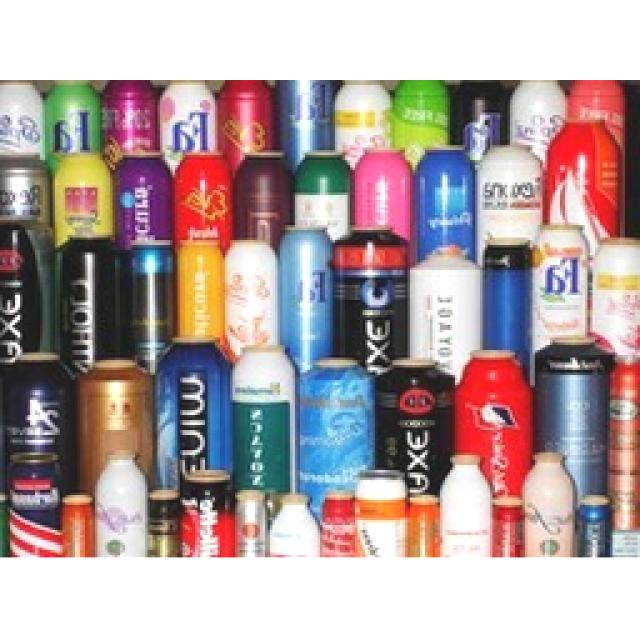B3: (300, 357, 374, 518), (158, 339, 232, 490), (458, 354, 532, 498), (378, 358, 454, 496), (4, 355, 76, 499), (334, 229, 408, 361), (81, 361, 153, 496), (234, 346, 297, 496), (410, 250, 481, 381), (546, 122, 619, 248), (532, 226, 589, 356), (281, 230, 334, 369), (482, 240, 533, 378), (478, 147, 543, 254), (225, 239, 279, 359), (477, 144, 543, 240), (127, 246, 175, 366), (355, 150, 411, 252), (8, 458, 64, 556), (175, 153, 231, 249), (236, 154, 292, 247), (524, 455, 575, 554), (177, 243, 225, 348), (440, 458, 492, 554), (162, 82, 218, 168), (334, 83, 392, 166), (219, 83, 274, 169), (279, 84, 334, 168), (354, 472, 407, 554), (512, 82, 566, 161), (392, 82, 448, 157), (572, 83, 624, 163), (104, 83, 158, 160), (185, 470, 233, 556), (453, 84, 508, 150), (0, 157, 52, 225), (1, 82, 45, 157), (271, 496, 321, 556), (321, 492, 356, 556), (235, 490, 267, 556), (148, 489, 180, 554), (60, 496, 94, 557), (578, 497, 612, 555), (408, 496, 440, 555), (492, 497, 524, 554)
zat_kimia: (300, 357, 374, 518), (334, 229, 408, 361), (482, 240, 533, 378), (478, 147, 543, 254), (512, 82, 566, 161), (572, 83, 624, 163), (453, 84, 508, 150)
